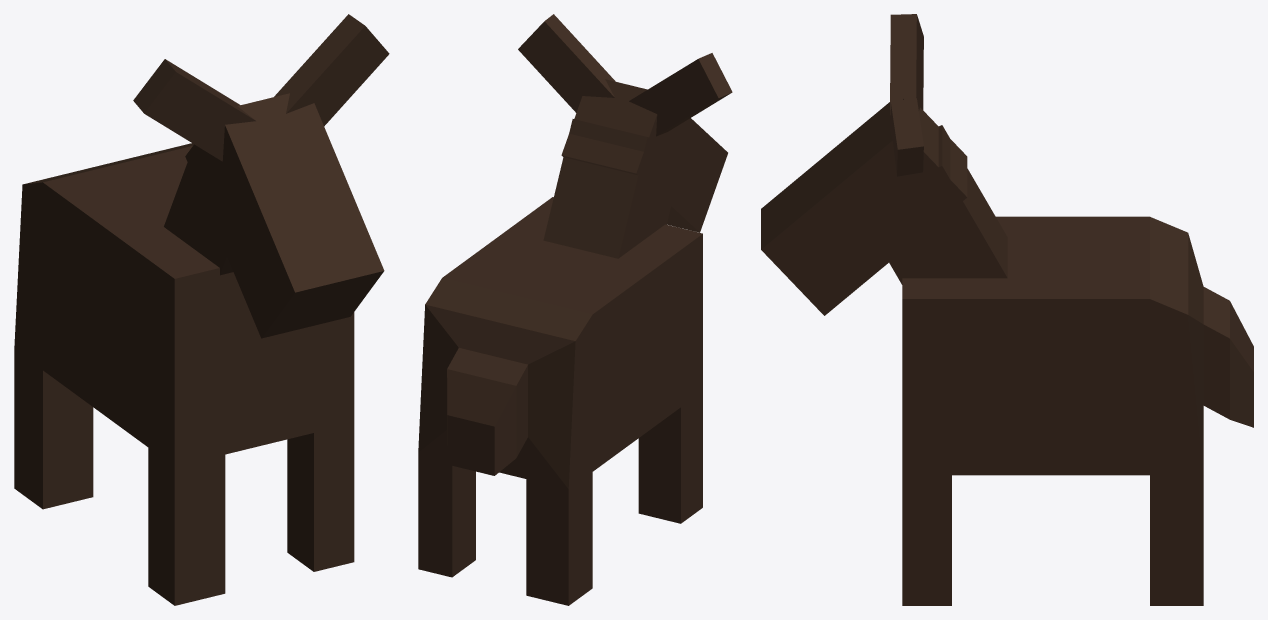
The model's file is Donkey1.fbx.
3 renders of one model, left to right at view 1: azimuth 30°, elevation 25°; view 2: azimuth 150°, elevation 25°; view 3: azimuth 270°, elevation 25°, orthographic. The views are drawn at different scales.
Visible parts, largest first — view 1: Cube.011; view 2: Cube.011; view 3: Cube.011.
Boxes of the visible parts, bbox=[...] form: Cube.011: bbox=[14, 14, 389, 605]; Cube.011: bbox=[418, 14, 732, 605]; Cube.011: bbox=[761, 14, 1253, 605].
Size of the model in its own units: 44.33 by 93.53 by 82.13.
